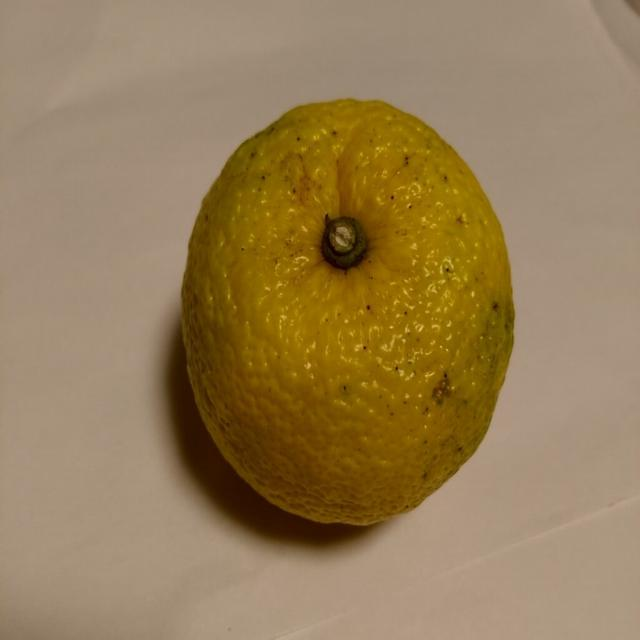Orange: (179, 102, 516, 531)
